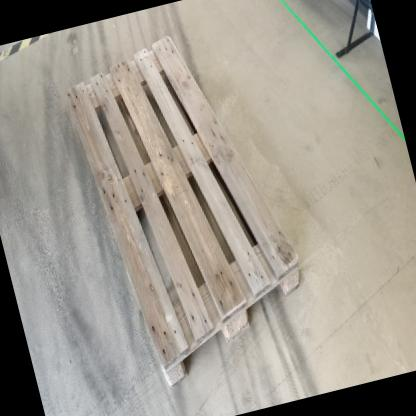BoxFace: (59, 28, 305, 395)
